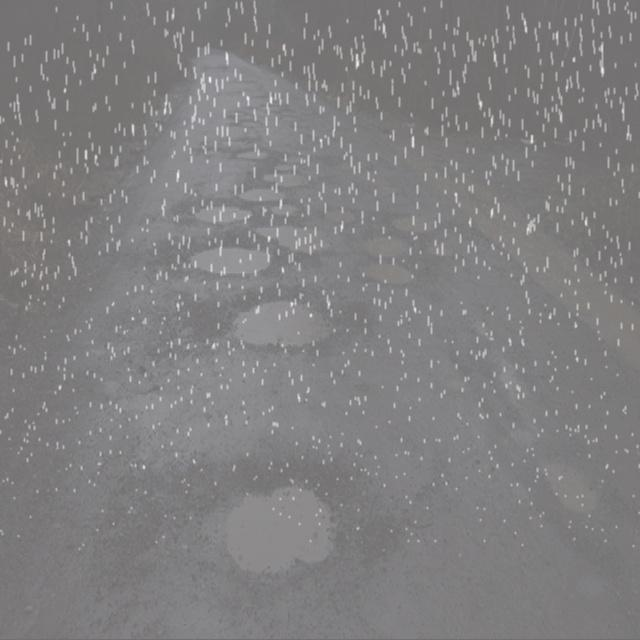Pothole: (168, 436, 359, 601), (216, 291, 352, 360), (530, 450, 621, 533), (170, 227, 280, 290), (182, 195, 262, 225), (363, 262, 429, 296), (349, 231, 426, 257), (252, 89, 302, 121), (238, 182, 287, 205), (220, 116, 256, 140), (238, 145, 272, 166)
